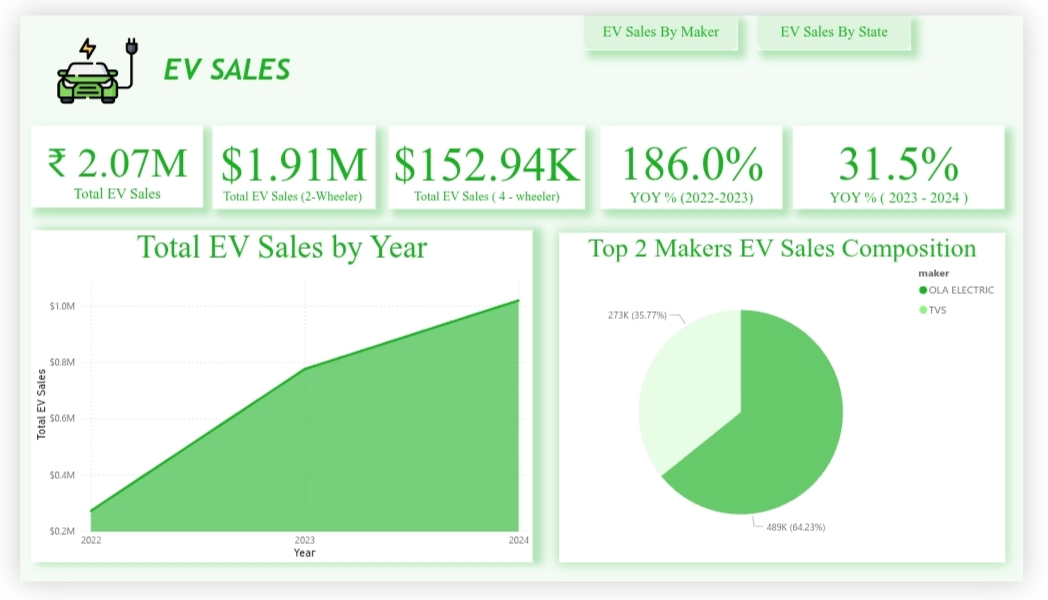

What the dashboard file says about the page in this screenshot:
{"tool":"powerbi","page":{"name":"EV Sales Overview","canvas":[1280,720],"ordinal":0},"visuals":[{"type":"textbox","box":[159.6,43.7,211.7,53.8],"z":0},{"type":"textbox","box":[23.5,278.8,327.6,419.9],"z":1000},{"type":"card","fields":{"Values":["electric_vehicle_sales_by_makers.Total EV Sales"]},"box":[14.7,140.8,219.3,104.8],"z":2000},{"type":"image","box":[13.4,13.4,169.7,112.5],"z":3000},{"type":"card","fields":{"Values":["electric_vehicle_sales_by_makers.YOY %"]},"box":[739.8,140.8,232.4,106.4],"z":4000},{"type":"card","fields":{"Values":["electric_vehicle_sales_by_makers.YOY %"]},"box":[987,140.8,270.1,106.4],"z":5000},{"type":"areaChart","fields":{"Category":["electric_vehicle_sales_by_makers.Fiscal_Year.Variation.Date Hierarchy.Year"],"Y":["electric_vehicle_sales_by_makers.Total EV Sales"]},"box":[13.1,275,640,423.9],"z":6000},{"type":"pieChart","title":"Top 2 Makers EV Sales Composition","fields":{"Y":["Sum(electric_vehicle_sales_by_makers.electric_vehicles_sold)"],"Category":["electric_vehicle_sales_by_makers.maker"]},"box":[687.5,278.3,569.6,420.7],"z":7000},{"type":"card","fields":{"Values":["electric_vehicle_sales_by_makers.Total EV Sales"]},"box":[247.2,140.8,207.9,106.4],"z":8000},{"type":"card","fields":{"Values":["electric_vehicle_sales_by_makers.Total EV Sales"]},"box":[469.8,140.8,250.4,106.4],"z":9000},{"type":"actionButton","box":[720.2,0,196.4,44.2],"z":10000},{"type":"actionButton","box":[941.2,0,196.4,44.2],"z":11000}]}

Visuals, with their boxes in screenshot pixels (x1, y1, x2, y2), scaled from the page's 1280x720 canvas onto the 1048x600 screenshot:
textbox: locate(131, 36, 304, 81)
textbox: locate(19, 232, 287, 582)
card - electric_vehicle_sales_by_makers.Total EV Sales: locate(12, 117, 192, 205)
image: locate(11, 11, 150, 105)
card - electric_vehicle_sales_by_makers.YOY %: locate(606, 117, 796, 206)
card - electric_vehicle_sales_by_makers.YOY %: locate(808, 117, 1029, 206)
areaChart - electric_vehicle_sales_by_makers.Fiscal_Year.Variation.Date Hierarchy.Year x electric_vehicle_sales_by_makers.Total EV Sales: locate(11, 229, 535, 582)
"Top 2 Makers EV Sales Composition" pieChart: locate(563, 232, 1029, 582)
card - electric_vehicle_sales_by_makers.Total EV Sales: locate(202, 117, 373, 206)
card - electric_vehicle_sales_by_makers.Total EV Sales: locate(385, 117, 590, 206)
actionButton: locate(590, 0, 750, 37)
actionButton: locate(771, 0, 931, 37)
